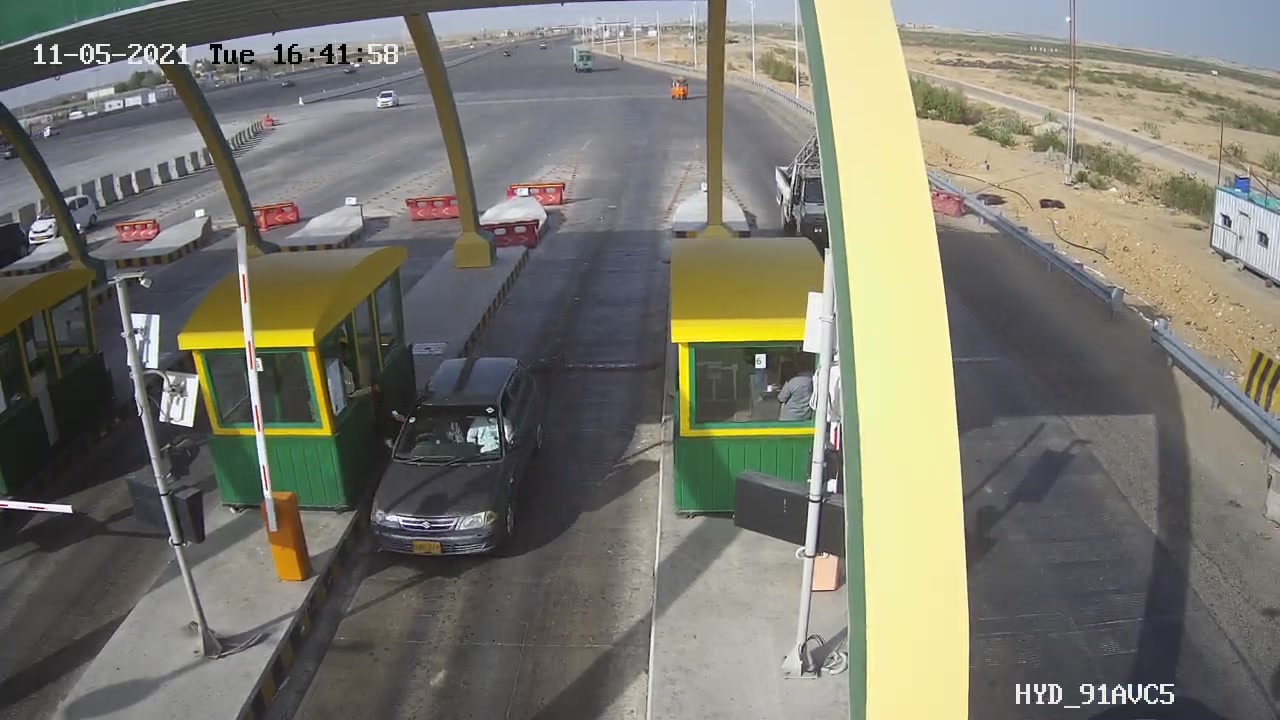F1: (344, 340, 566, 584)
